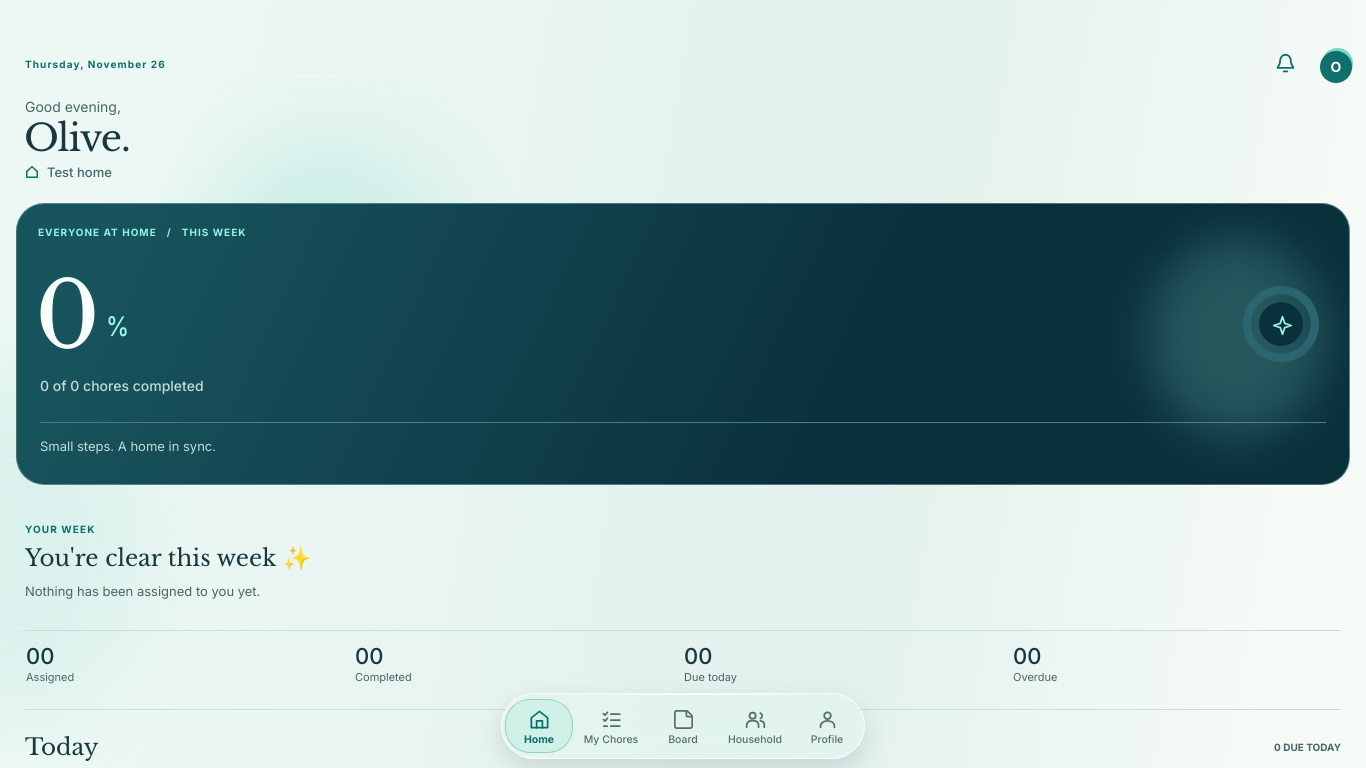
Test: household jobs (When needed) on Home and My Chores › shows Already done next to the job's new open copy after someone else did it
Expected: the heading "Today" is shown, [25,734,98,762]
Click the button "My Chores": click(611, 726) [575,696,647,756]
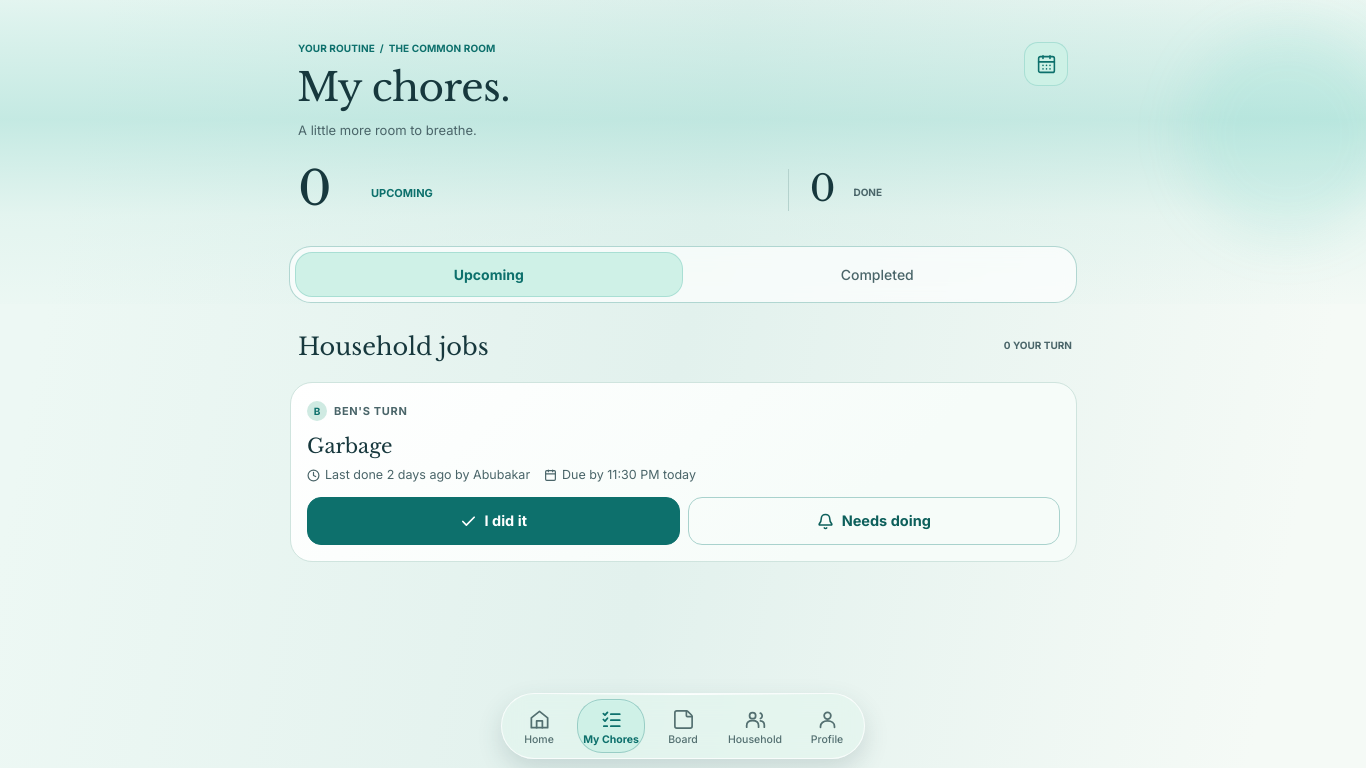
Click the button with aria-label "I did it Garbage": click(493, 521) [307,497,680,545]
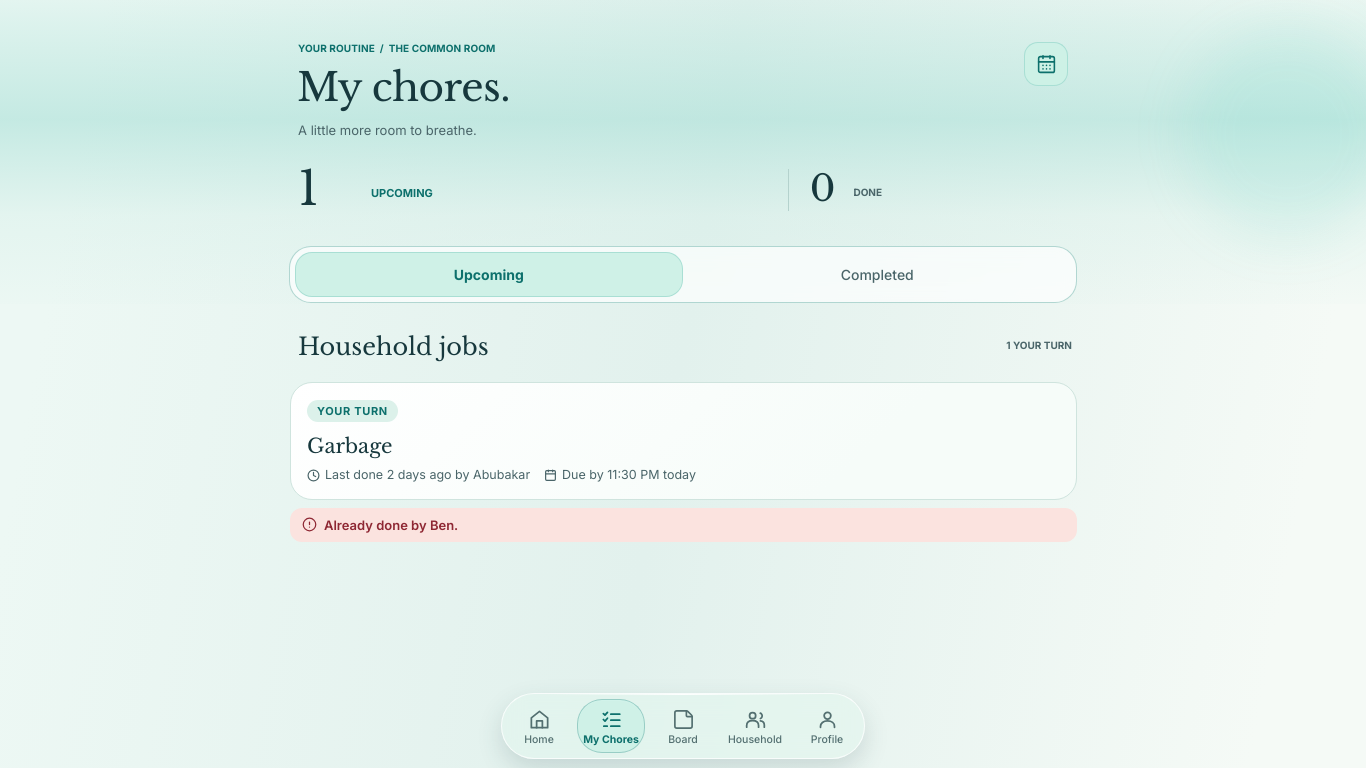
Expected: the message reads "Already done by Ben.", [324,517,458,533]
Expected: the element named "Garbage" is shown, [290,382,1077,500]
Expected: the message "Already done by Ben." is shown, [290,508,1077,542]
